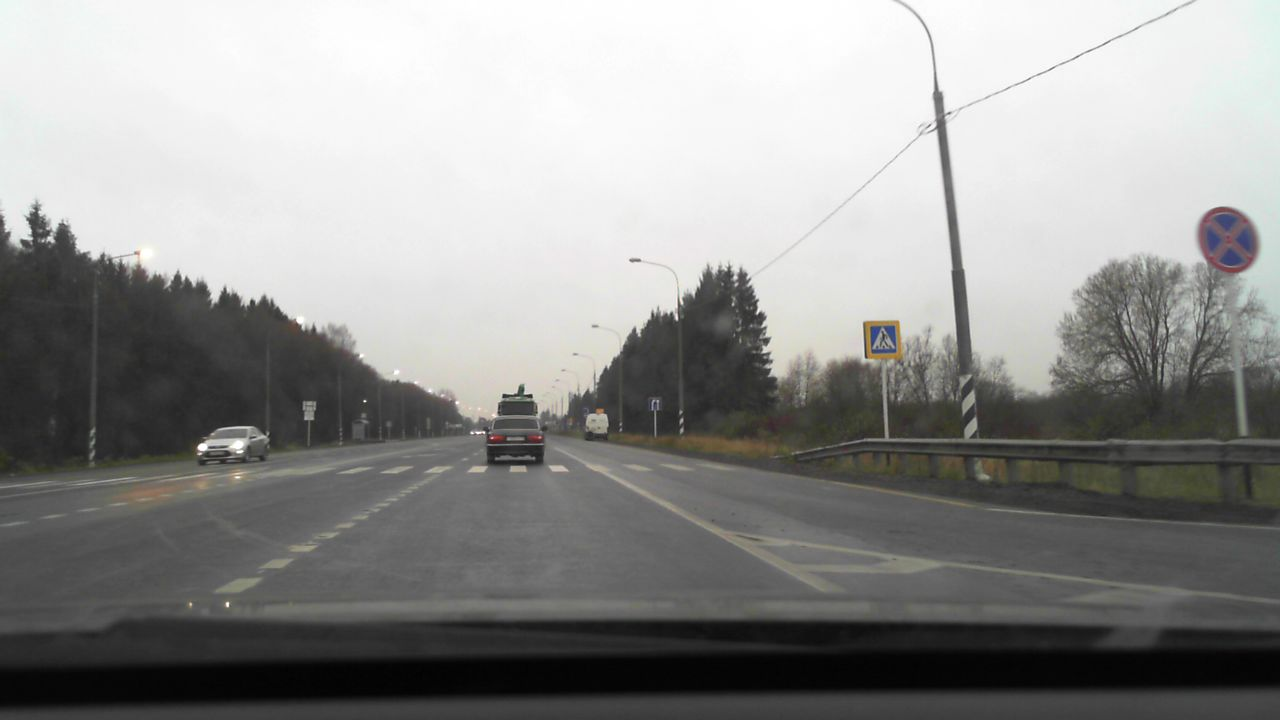No Parking: (1196, 207, 1259, 274)
